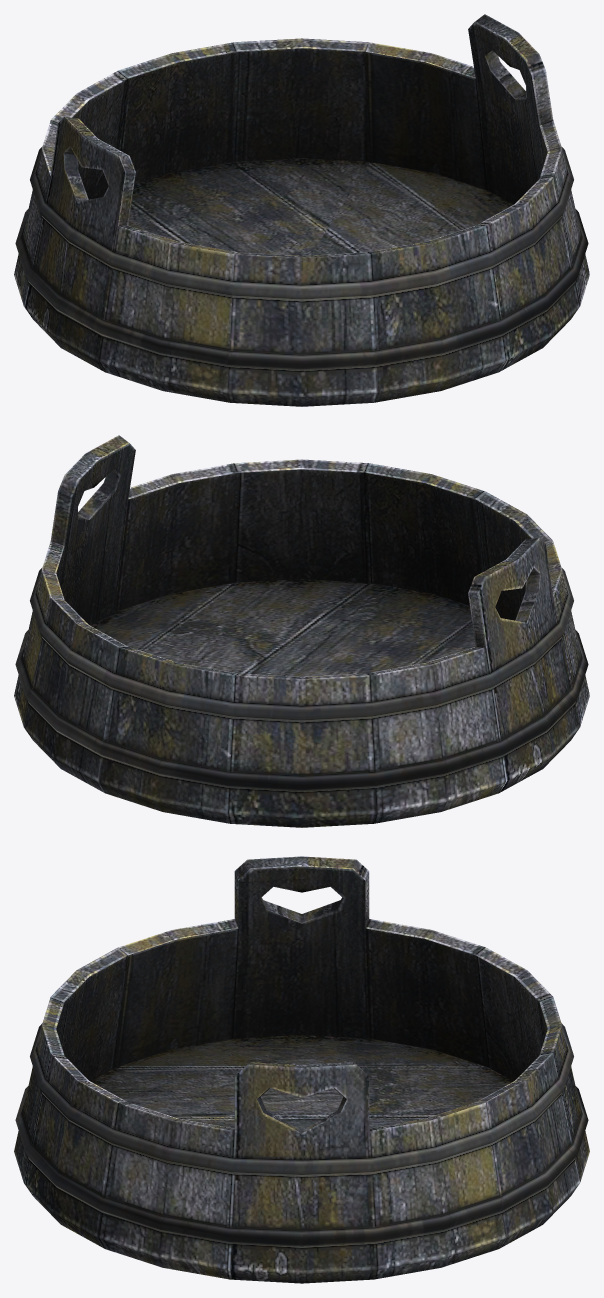
Rendered from fish_bowl_empty.FBX.
The picture shows the model from 3 angles, top to bottom: view 1: azimuth 30°, elevation 25°; view 2: azimuth 150°, elevation 25°; view 3: azimuth 270°, elevation 25°; orthographic projection.
Parts seen in each view (by area): view 1: fish_bowl_empty; view 2: fish_bowl_empty; view 3: fish_bowl_empty.
Boxes of the visible parts, x1,y1,x2,y2 form: fish_bowl_empty: (14,14,589,406); fish_bowl_empty: (14,435,589,827); fish_bowl_empty: (14,856,589,1283).
Bounding box in the file's own units: 41.99 × 41.99 × 16.39.
